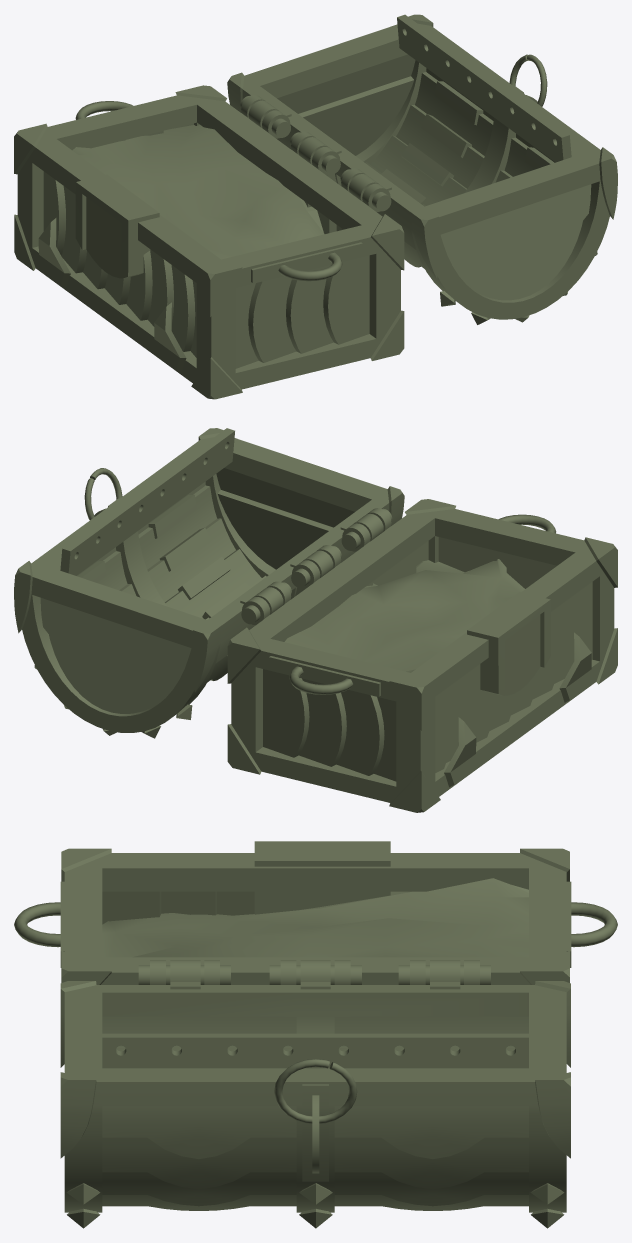
The model's file is Armored_chest_open_version_1.FBX.
The picture shows the model from 3 angles, top to bottom: view 1: azimuth 30°, elevation 25°; view 2: azimuth 150°, elevation 25°; view 3: azimuth 270°, elevation 25°; orthographic projection. The views are drawn at different scales.
Visible parts, largest first — view 1: Armored_chest_open_version_1; view 2: Armored_chest_open_version_1; view 3: Armored_chest_open_version_1.
Boxes of the visible parts, left/top/right/bottom form: Armored_chest_open_version_1: left=14, top=14, right=617, bottom=399; Armored_chest_open_version_1: left=14, top=428, right=617, bottom=812; Armored_chest_open_version_1: left=14, top=841, right=617, bottom=1228.
Bounding box in the file's own units: 234 × 214 × 88.8.
